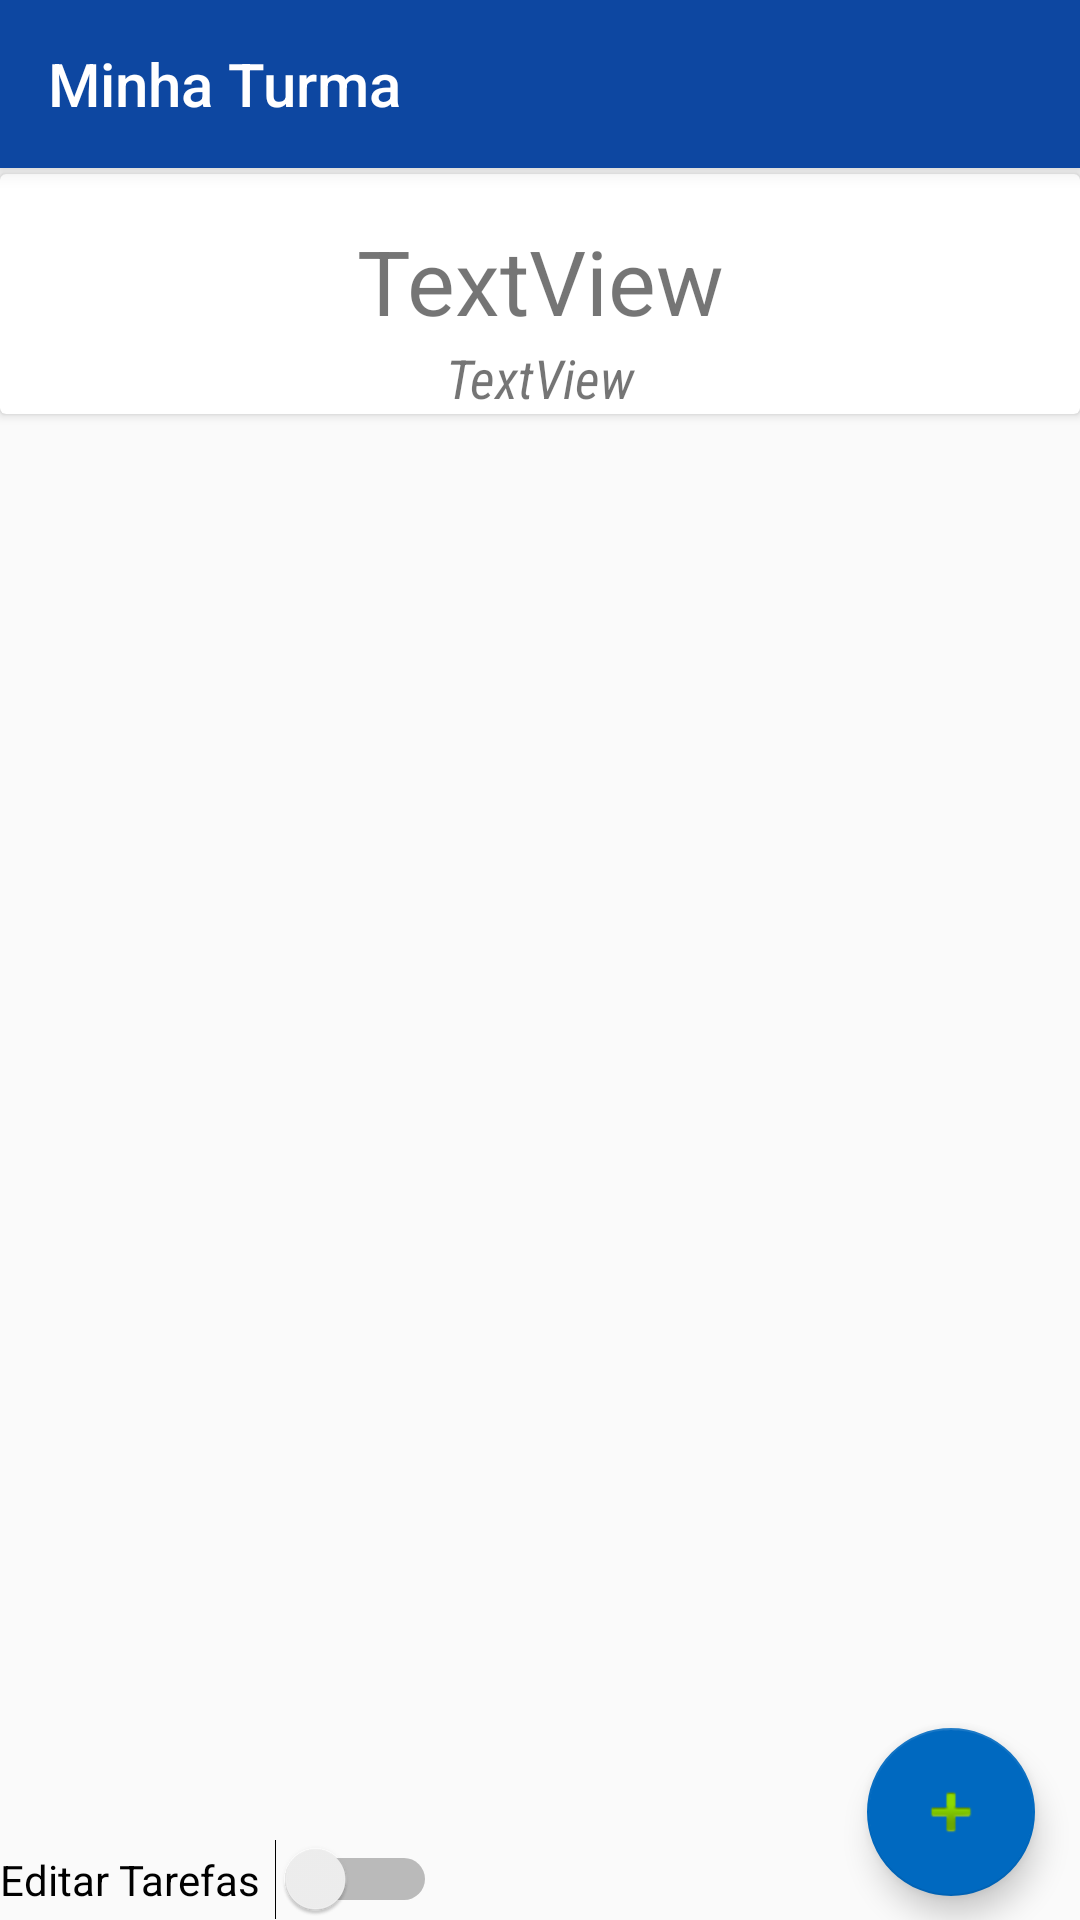

Screen size 1080px x 1920px. Icon name, then its box in pixels as (x1, y1, x2, y2):
add: (867, 1728, 1035, 1896)
